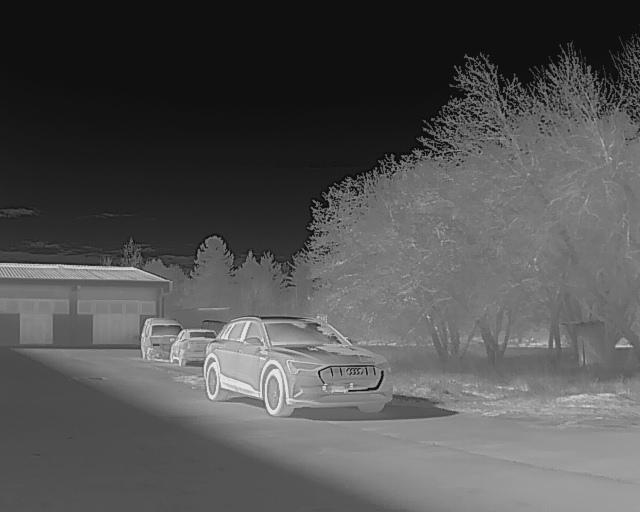drone: (299, 375, 366, 397)
